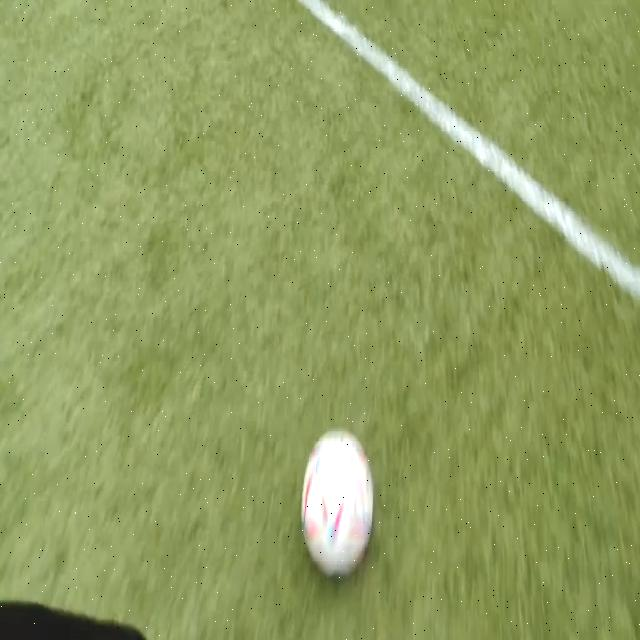ball: (300, 426, 374, 582)
